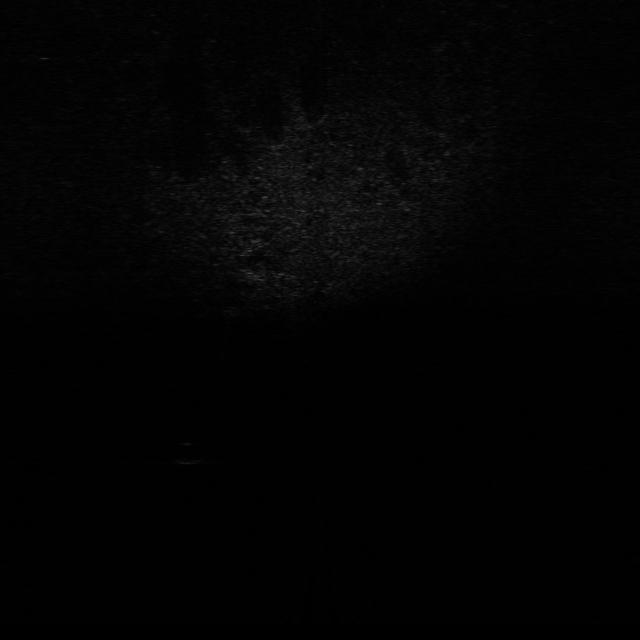ball: (172, 438, 209, 465)
cube: (218, 300, 244, 322)
